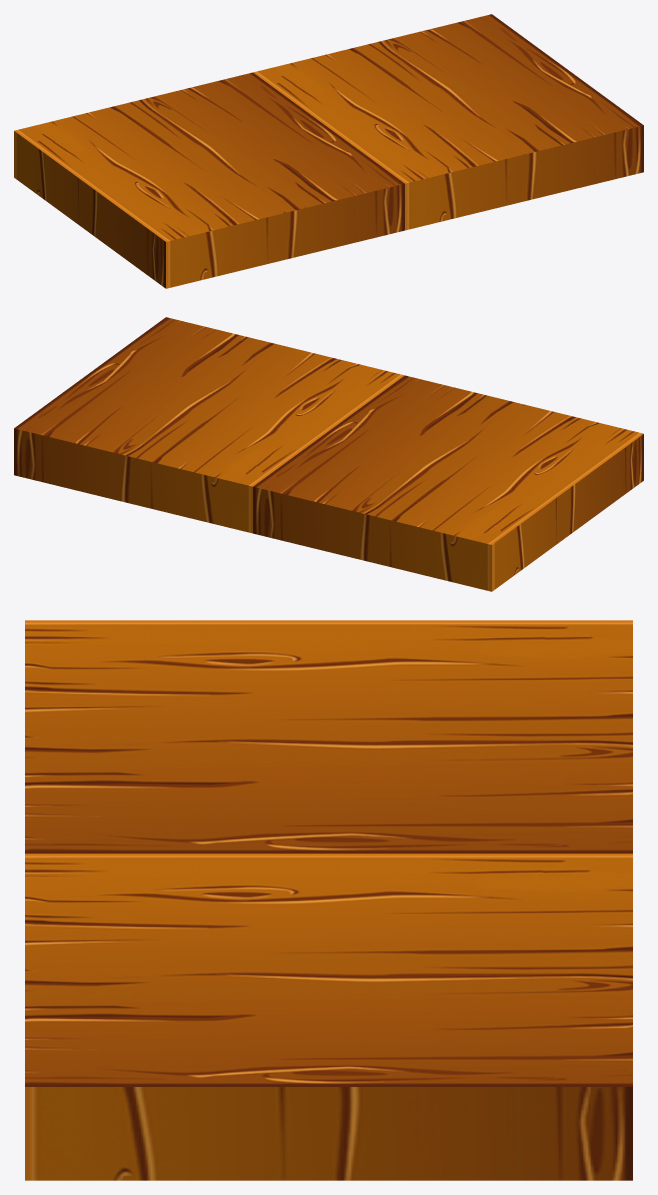
The model's file is wood_1.fbx.
3 renders of one model, top to bottom at view 1: azimuth 30°, elevation 25°; view 2: azimuth 150°, elevation 25°; view 3: azimuth 270°, elevation 25°, orthographic. The views are drawn at different scales.
Parts seen in each view (by area): view 1: wood3; view 2: wood3; view 3: wood3.
Part boxes in pixels (x1,y1,x2,y2): wood3: (14, 14, 643, 288); wood3: (14, 317, 643, 591); wood3: (25, 620, 632, 1180).
Bounding box in the file's own units: 182 × 17.01 × 100.
1 material, 1 textured.
